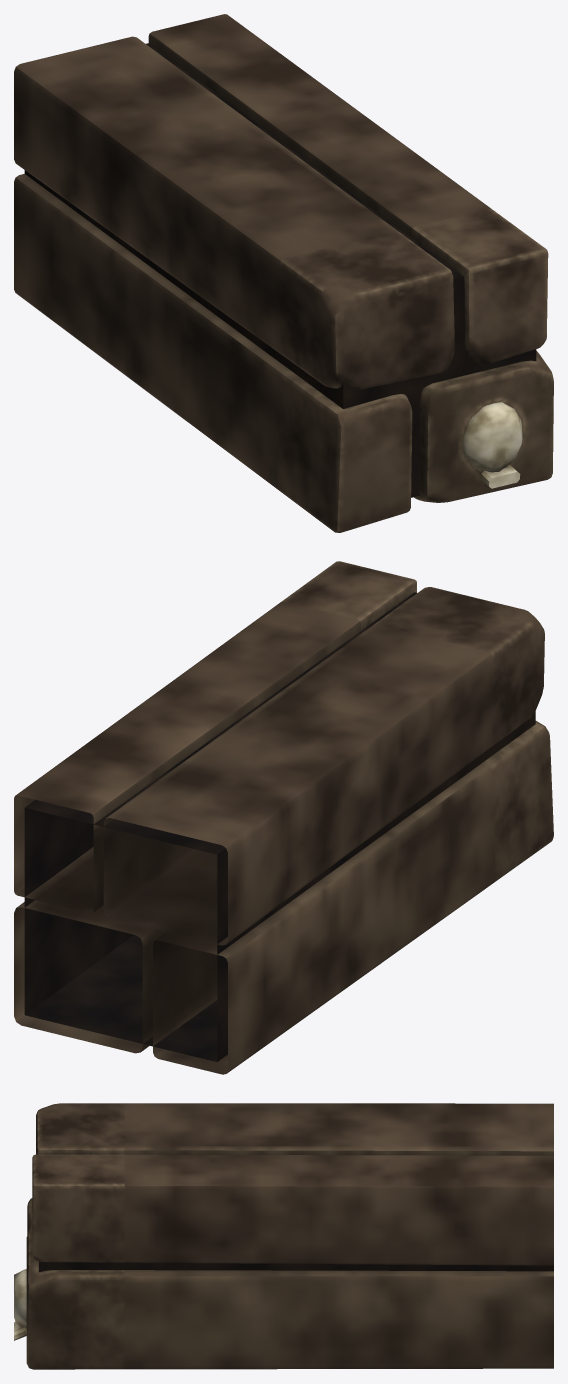
The model's file is Ossuary_Fill_C.fbx.
3 views of the same model, one above another, from view 1: azimuth 30°, elevation 25°; view 2: azimuth 150°, elevation 25°; view 3: azimuth 270°, elevation 25° (orthographic). The views are drawn at different scales.
Visible parts, largest first — view 1: Ossuary_Fill_C; view 2: Ossuary_Fill_C; view 3: Ossuary_Fill_C.
Boxes of the visible parts, bbox=[...] form: Ossuary_Fill_C: bbox=[14, 14, 553, 532]; Ossuary_Fill_C: bbox=[14, 561, 553, 1074]; Ossuary_Fill_C: bbox=[14, 1103, 553, 1369].
Bounding box in the file's own units: 0.9823 × 0.9869 × 2.58.
